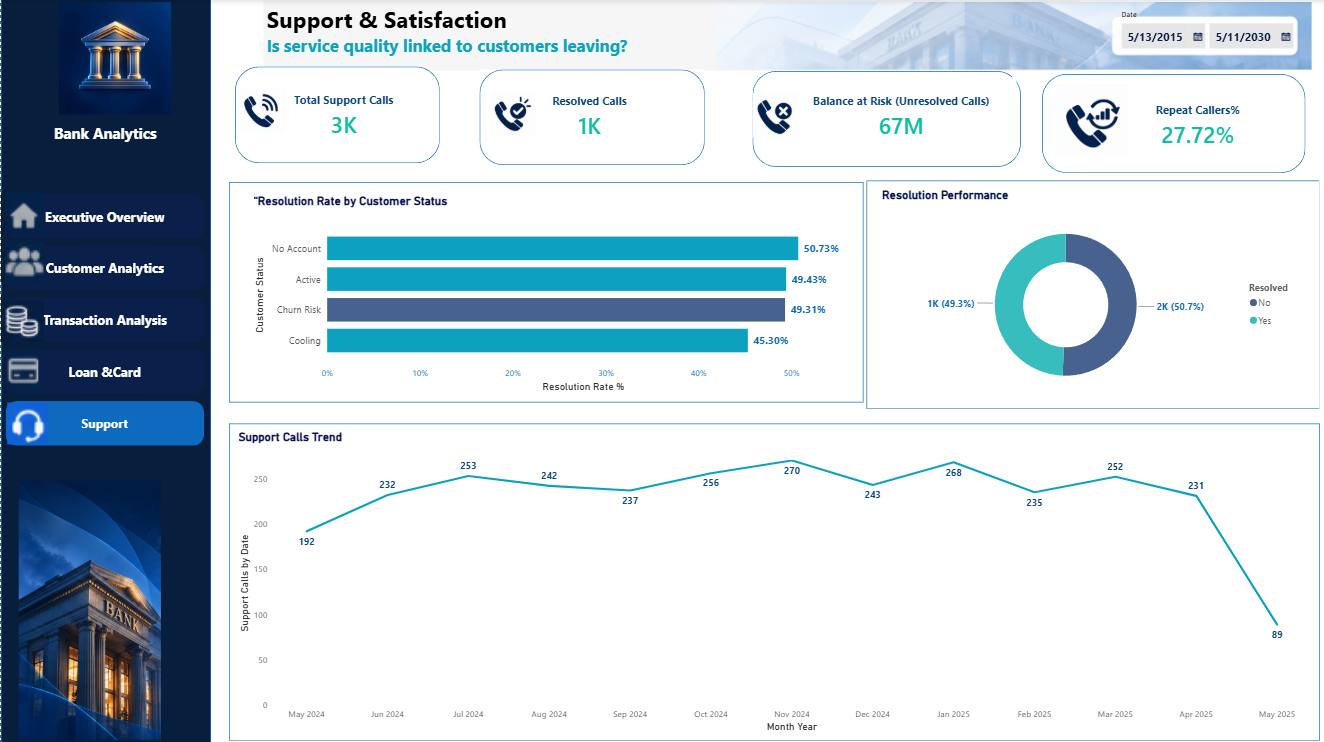

Layout of this report page (visuals, bound fields, positions):
{"tool":"powerbi","page":{"name":"Support","canvas":[1911,1078],"ordinal":4},"visuals":[{"type":"shape","box":[0,0,300.2,1065.9],"z":0},{"type":"textbox","box":[375.3,2.1,1166.7,100.8],"z":1000},{"type":"image","box":[0,687.6,254.3,370.6],"z":1000,"group":"g8"},{"type":"group","id":"g1","title":"Group 1","box":[1237.4,259.5,649.8,326],"z":2000},{"type":"group","id":"g2","title":"Group 2","box":[326,261.6,907.2,315.3],"z":3000},{"type":"group","id":"g3","title":"Group 5","box":[326,606.9,1561.3,454.7],"z":4000},{"type":"group","id":"g4","title":"Group 8","box":[1487.6,106.3,376.7,141.6],"z":5000},{"type":"group","id":"g5","title":"Group 9","box":[1074.1,103.8,383.7,137.2],"z":6000},{"type":"group","id":"g6","title":"Group 10","box":[683.9,101.5,323.3,138.9],"z":7000},{"type":"group","id":"g7","title":"Group 11","box":[333.9,96.2,293.9,136.2],"z":8000},{"type":"textbox","box":[57.9,171.6,182.2,59.3],"z":9000},{"type":"shape","box":[333.9,96.2,293,138.2],"z":10000,"group":"g7"},{"type":"textbox","box":[0,278.8,219.6,65.9],"z":10000},{"type":"shape","box":[683.9,101.5,322.1,136.7],"z":11000,"group":"g6"},{"type":"textbox","box":[0,345.3,224,59.3],"z":11000},{"type":"shape","box":[1074.1,103.8,383.7,137.2],"z":12000,"group":"g5"},{"type":"textbox","box":[19.3,581.2,182.2,59.3],"z":12000},{"type":"shape","box":[1487.6,106.3,376.7,141.6],"z":13000,"group":"g4"},{"type":"textbox","box":[24.2,507.2,182.2,59.3],"z":13000},{"type":"textbox","box":[0,422.5,224,59.3],"z":14000},{"type":"actionButton","box":[0,293.8,239.1,49.3],"z":15000},{"type":"actionButton","box":[0,345.3,218.6,58.1],"z":16000},{"type":"shape","box":[1237.4,259.5,648.7,326.9],"z":17000,"group":"g1"},{"type":"actionButton","box":[2.1,405.3,218.6,76.7],"z":17000},{"type":"actionButton","box":[4.7,507,218.6,58.1],"z":18000},{"type":"shape","box":[326,606.9,1561.3,454.7],"z":18000,"group":"g3"},{"type":"shape","box":[326,261.6,907.2,315.3],"z":19000,"group":"g2"},{"type":"actionButton","box":[2.1,566.2,218.6,88.4],"z":19000},{"type":"group","id":"g8","title":"Group 12","box":[0,687.6,254.3,371],"z":20000},{"type":"image","box":[0,4.3,326,160.8],"z":21000},{"type":"image","box":[1005.8,4.3,883.6,96.5],"z":22000},{"type":"slicer","fields":{"Values":["DimDate.Date"]},"box":[1589.2,10.7,298.1,83.6],"z":23000},{"type":"pageNavigator","box":[6.4,278.8,284.4,362],"z":24000},{"type":"image","box":[5.2,576,67.5,60],"z":25000},{"type":"image","box":[0,501.8,62,60],"z":26000},{"type":"image","box":[0,430.7,61,60],"z":27000},{"type":"cardVisual","fields":{"Data":["calculated_table.Total Support Calls"]},"box":[363.4,109.5,251.4,114.2],"z":28000,"group":"g7"},{"type":"image","box":[0,345.1,67.5,60],"z":28000},{"type":"cardVisual","fields":{"Data":["calculated_table.Resolved Calls"]},"box":[699.2,110.9,285.7,117.8],"z":29000,"group":"g6"},{"type":"image","box":[0,277.6,67.5,60],"z":29000},{"type":"image","box":[699.9,112.2,64.3,105.1],"z":30000},{"type":"cardVisual","fields":{"Data":["calculated_table.Repeat Callers%"]},"box":[1575.4,121.6,270.4,117.8],"z":30000,"group":"g4"},{"type":"cardVisual","fields":{"Data":["calculated_table.Balance at Risk (Unresolved Calls)"]},"box":[1122.8,111.4,327.9,114],"z":31000,"group":"g5"},{"type":"image","box":[1074.4,114,64.3,105.1],"z":31000},{"type":"image","box":[1509.4,117.5,101.5,114.9],"z":32000},{"type":"image","box":[336.6,106.9,70.8,105.1],"z":33000},{"type":"clusteredBarChart","title":"“Resolution Rate by Customer Status","fields":{"Category":["customers.Customer Status"],"Y":["calculated_table.Resolution Rate %"]},"box":[355.1,277.8,859.5,287.4],"z":37000,"group":"g2"},{"type":"donutChart","title":"Resolution Performance","fields":{"Category":["SupportCalls.Resolved"],"Y":["calculated_table.Total Support Calls"]},"box":[1254.8,269.6,609.7,303.6],"z":38000,"group":"g1"},{"type":"lineChart","title":"Support Calls Trend","fields":{"Category":["DimDate.Month Year"],"Y":["calculated_table.Support Calls by Date"]},"box":[335.2,614.8,1540.9,437.4],"z":38001,"group":"g3"}]}

Visuals, with their boxes on the page's 1911x1078 design canvas (x1, y1, x2, y2). These are canvas units, not pixel positions in the 1324x742 screenshot, which may show the page scaled, cropped or inside an application window:
shape: 0,0,300,1066
textbox: 375,2,1542,103
image: 0,688,254,1058
"Group 1" group: 1237,260,1887,586
"Group 2" group: 326,262,1233,577
"Group 5" group: 326,607,1887,1062
"Group 8" group: 1488,106,1864,248
"Group 9" group: 1074,104,1458,241
"Group 10" group: 684,102,1007,240
"Group 11" group: 334,96,628,232
textbox: 58,172,240,231
shape: 334,96,627,234
textbox: 0,279,220,345
shape: 684,102,1006,238
textbox: 0,345,224,405
shape: 1074,104,1458,241
textbox: 19,581,202,640
shape: 1488,106,1864,248
textbox: 24,507,206,566
textbox: 0,422,224,482
actionButton: 0,294,239,343
actionButton: 0,345,219,403
shape: 1237,260,1886,586
actionButton: 2,405,221,482
actionButton: 5,507,223,565
shape: 326,607,1887,1062
shape: 326,262,1233,577
actionButton: 2,566,221,655
"Group 12" group: 0,688,254,1059
image: 0,4,326,165
image: 1006,4,1889,101
slicer - DimDate.Date: 1589,11,1887,94
pageNavigator: 6,279,291,641
image: 5,576,73,636
image: 0,502,62,562
image: 0,431,61,491
cardVisual - calculated_table.Total Support Calls: 363,110,615,224
image: 0,345,68,405
cardVisual - calculated_table.Resolved Calls: 699,111,985,229
image: 0,278,68,338
image: 700,112,764,217
cardVisual - calculated_table.Repeat Callers%: 1575,122,1846,239
cardVisual - calculated_table.Balance at Risk (Unresolved Calls): 1123,111,1451,225
image: 1074,114,1139,219
image: 1509,118,1611,232
image: 337,107,407,212
"“Resolution Rate by Customer Status" clusteredBarChart: 355,278,1215,565
"Resolution Performance" donutChart: 1255,270,1864,573
"Support Calls Trend" lineChart: 335,615,1876,1052
